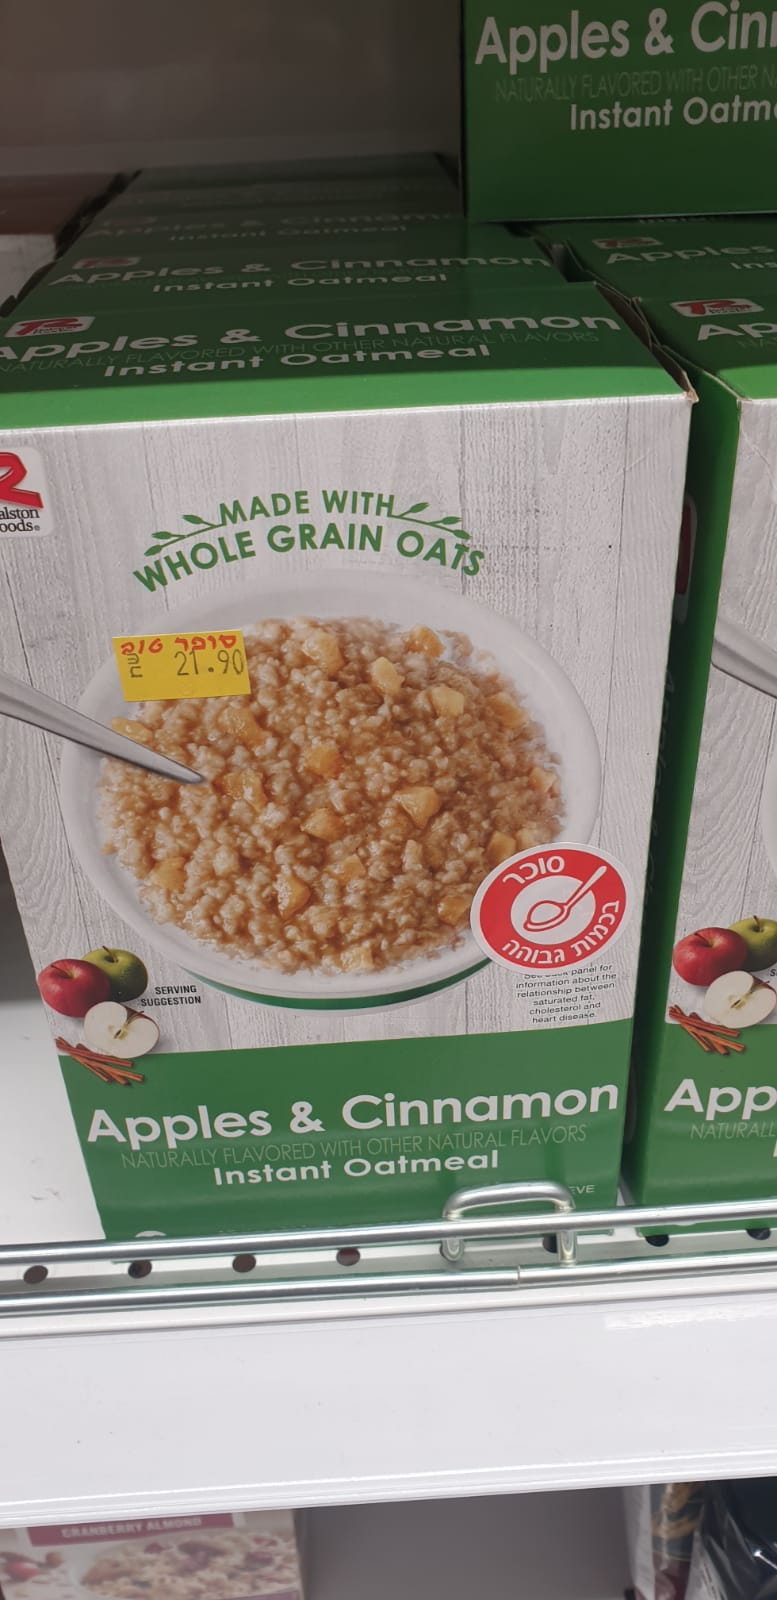sugar: (469, 841, 629, 976)
